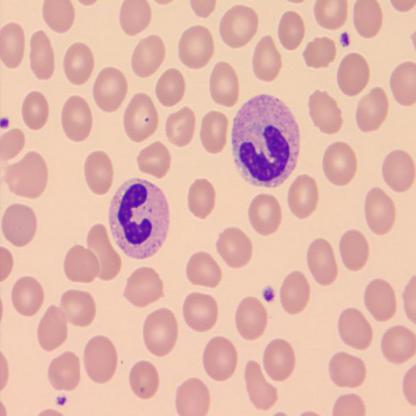Band Neutrophil: (228, 90, 302, 190), (107, 174, 171, 262)
